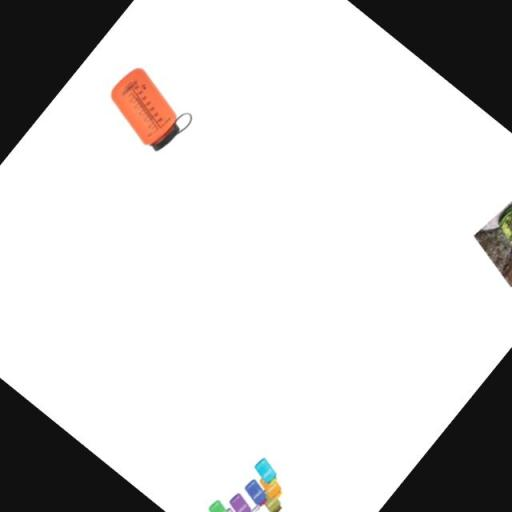bottle: (90, 58, 202, 168), (477, 195, 512, 279), (248, 454, 285, 488), (252, 471, 286, 505), (240, 476, 274, 509), (254, 487, 286, 512), (226, 490, 258, 512), (202, 497, 236, 512), (241, 500, 279, 512), (214, 504, 250, 512)
